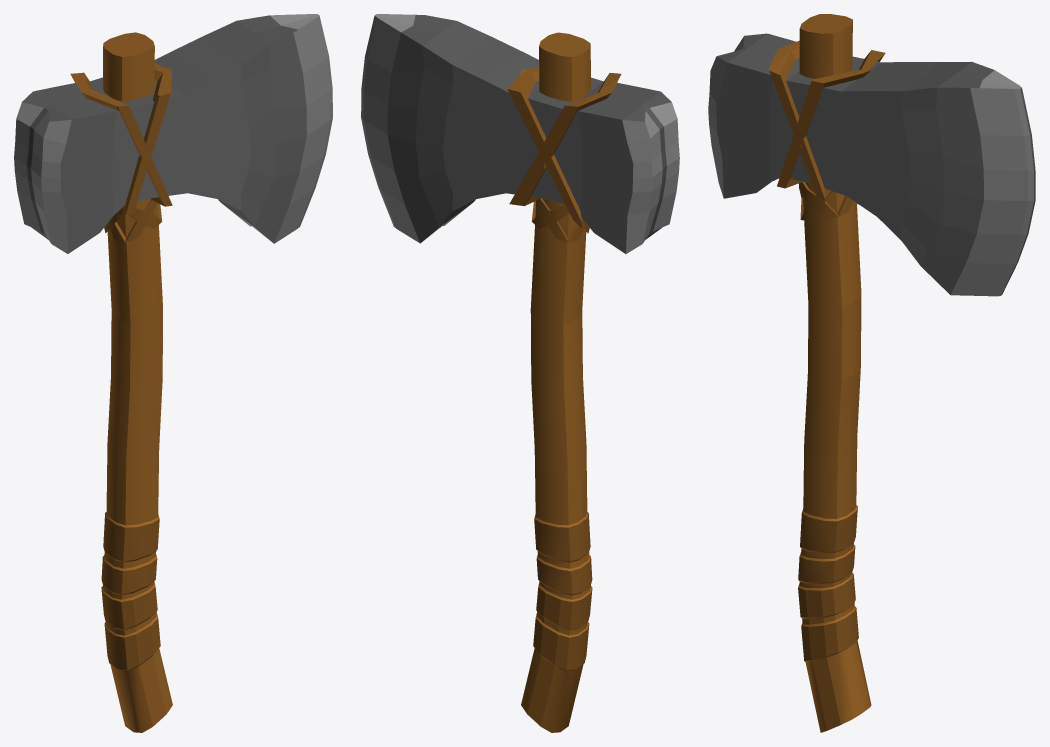
The model's file is axe.glb.
The picture shows the model from 3 angles, left to right: view 1: azimuth 30°, elevation 25°; view 2: azimuth 150°, elevation 25°; view 3: azimuth 330°, elevation 25°; orthographic projection. The views are drawn at different scales.
Parts seen in each view (by area): view 1: Cube; view 2: Cube; view 3: Cube.
Part boxes in pixels (x1=…): Cube: x1=14, y1=14, x2=332, y2=732; Cube: x1=361, y1=14, x2=679, y2=732; Cube: x1=708, y1=14, x2=1035, y2=732.
Size of the model in its own units: 1.74 by 3.75 by 0.4456.
